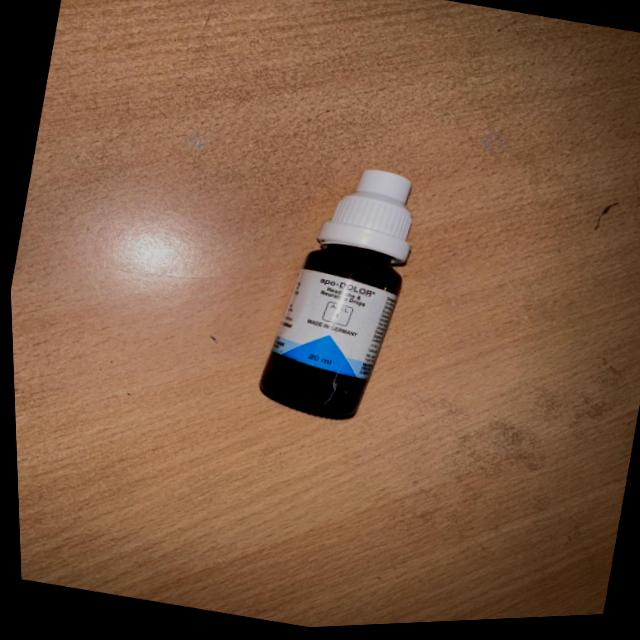medicine: (239, 146, 454, 428)
